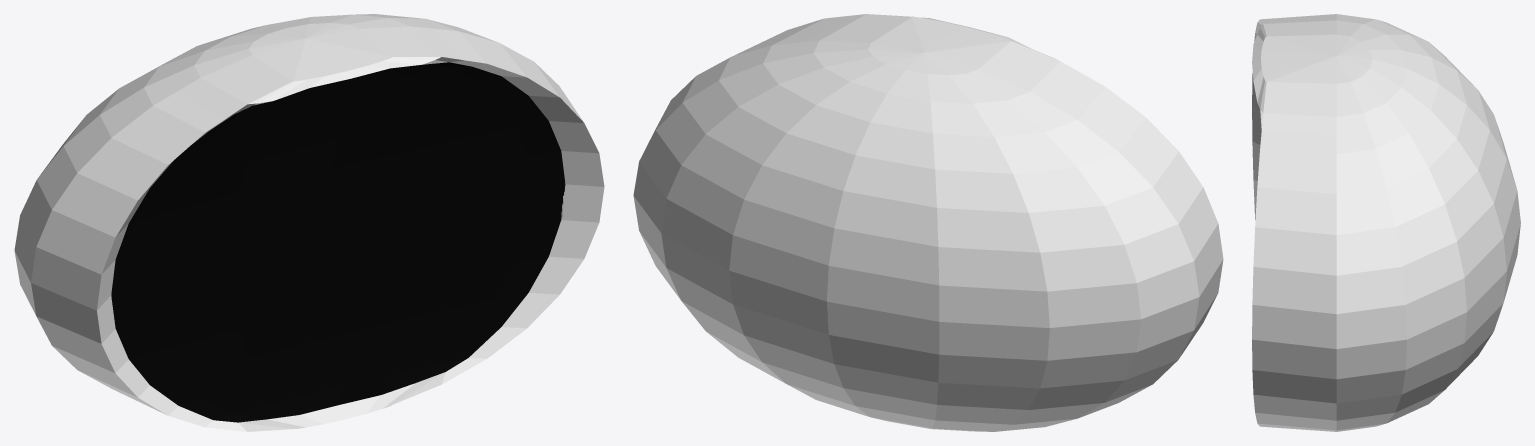
File: screen.fbx
3 renders of one model, left to right at view 1: azimuth 30°, elevation 25°; view 2: azimuth 150°, elevation 25°; view 3: azimuth 270°, elevation 25°, orthographic. The views are drawn at different scales.
Parts seen in each view (by area): view 1: Sphere; view 2: Sphere; view 3: Sphere.
Boxes of the visible parts, x1,y1,x2,y2 form: Sphere: (14, 14, 604, 431); Sphere: (633, 14, 1223, 431); Sphere: (1252, 14, 1520, 431).
Bounding box in the file's own units: 324 × 200 × 146.
Materials: 1 (1 with a texture image).
